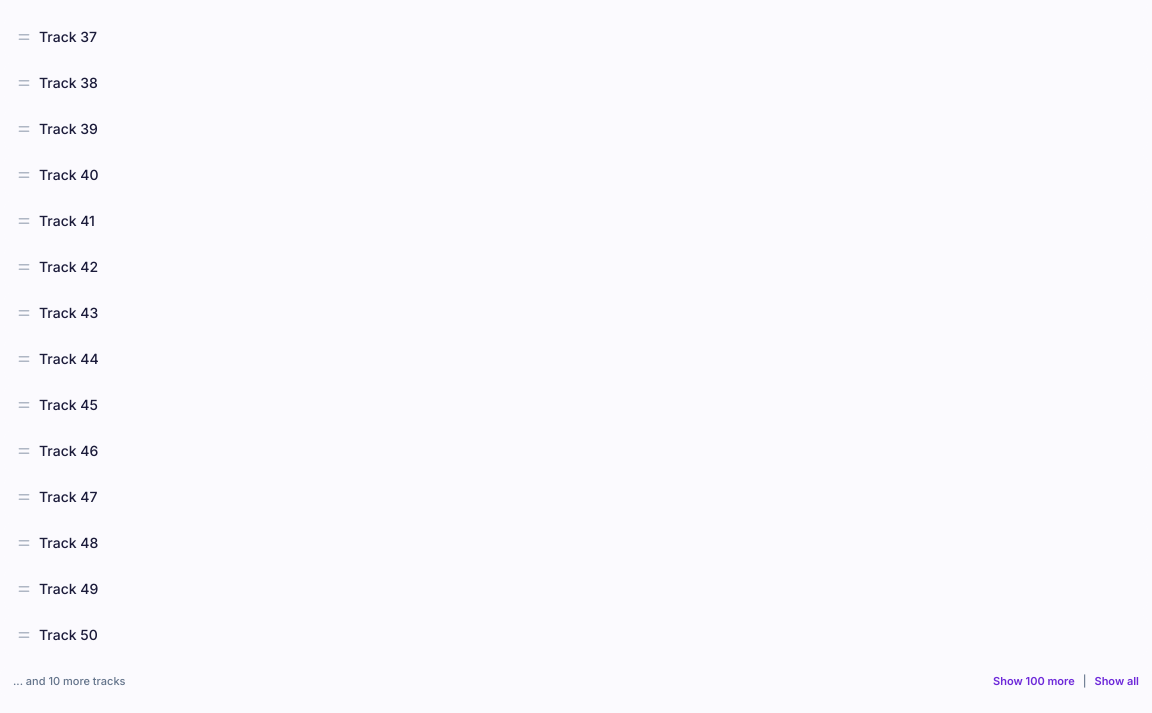
Scenario: QueueSection.vue › Performance display limit › increases displayLimit when clicking Show 100 more
This screenshot has width=1152, height=713.
(page scrolled)
Step 1. Click the button "Show 100 more" → (1034, 681), box [993,673,1075,690]
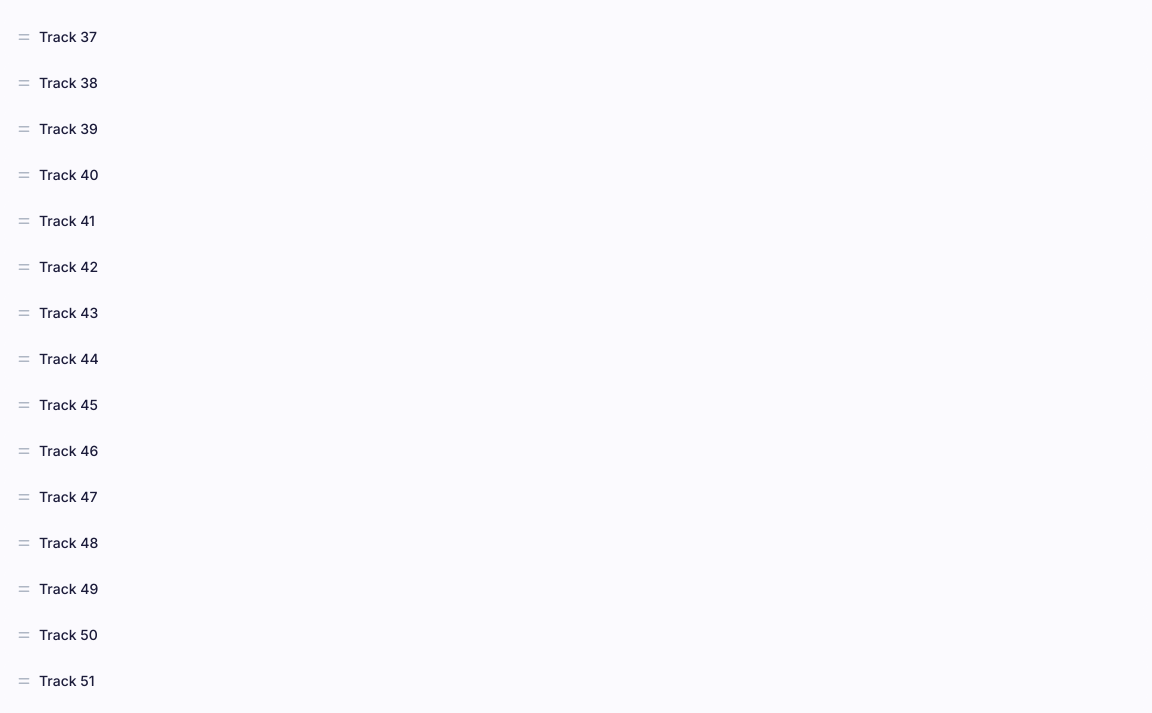
Expected: the text "Track 51" is shown, [39,671,94,691]
Expected: the text "more tracks" is gone
